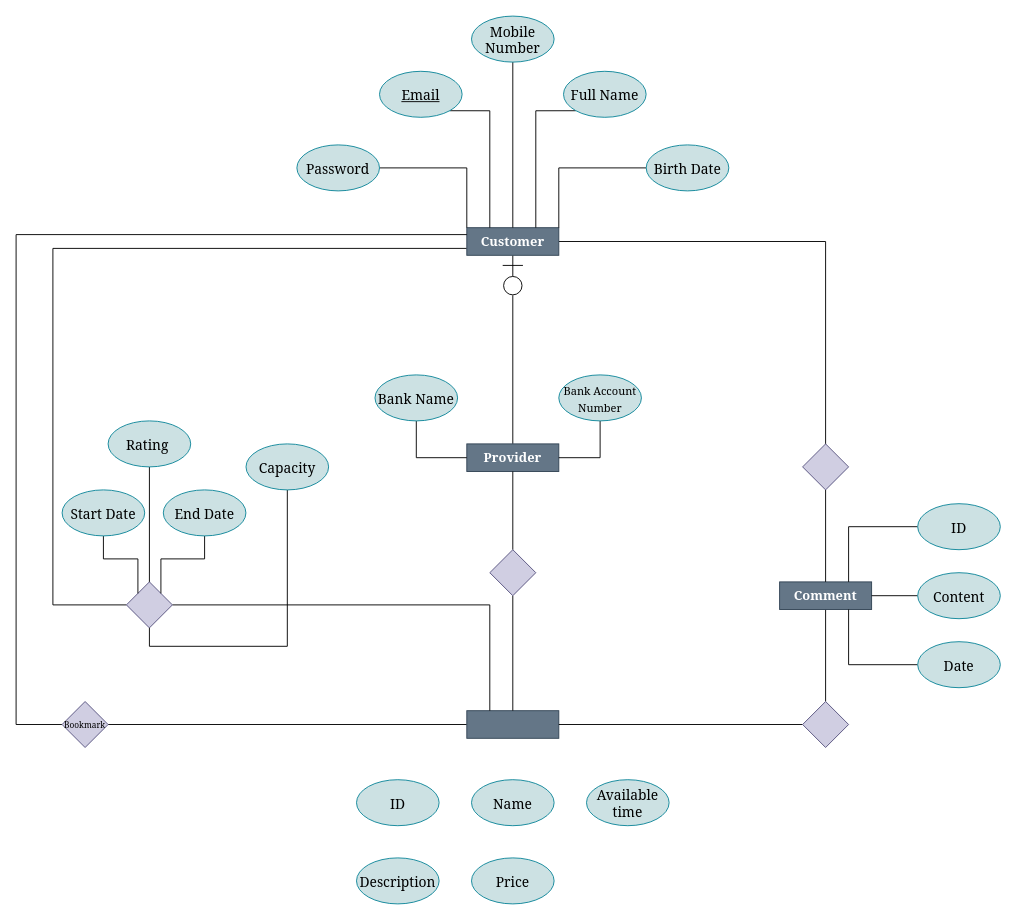
Image size: 1017x920. Some labels were removed from this diagram. Each missing label, with the box of its shape:
Book: (125, 581, 172, 628)
Has A: (489, 549, 536, 596)
On: (802, 701, 849, 748)
Service: (466, 710, 559, 738)
Writes: (802, 443, 849, 490)
